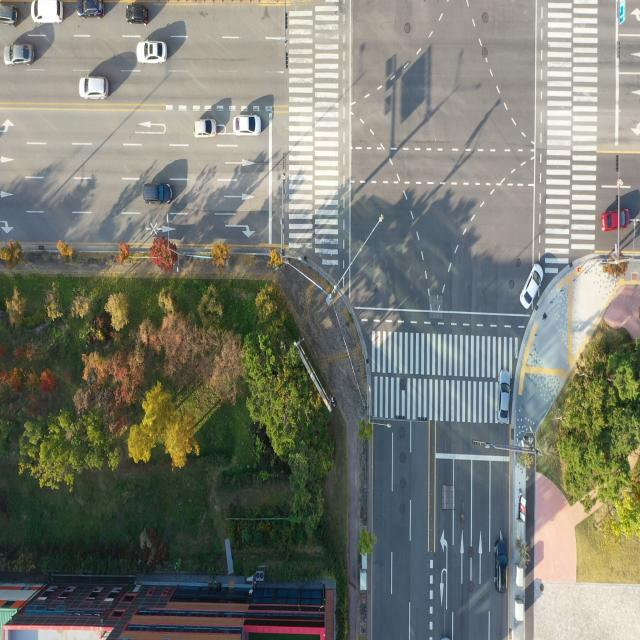car: (522, 260, 546, 312), (496, 361, 514, 426), (600, 203, 632, 236), (230, 112, 264, 138), (138, 41, 169, 68), (494, 540, 509, 594), (30, 0, 65, 22), (7, 42, 36, 66), (126, 1, 151, 28), (78, 76, 106, 100), (77, 0, 107, 21), (145, 182, 173, 204), (192, 118, 218, 138), (1, 0, 20, 27)
